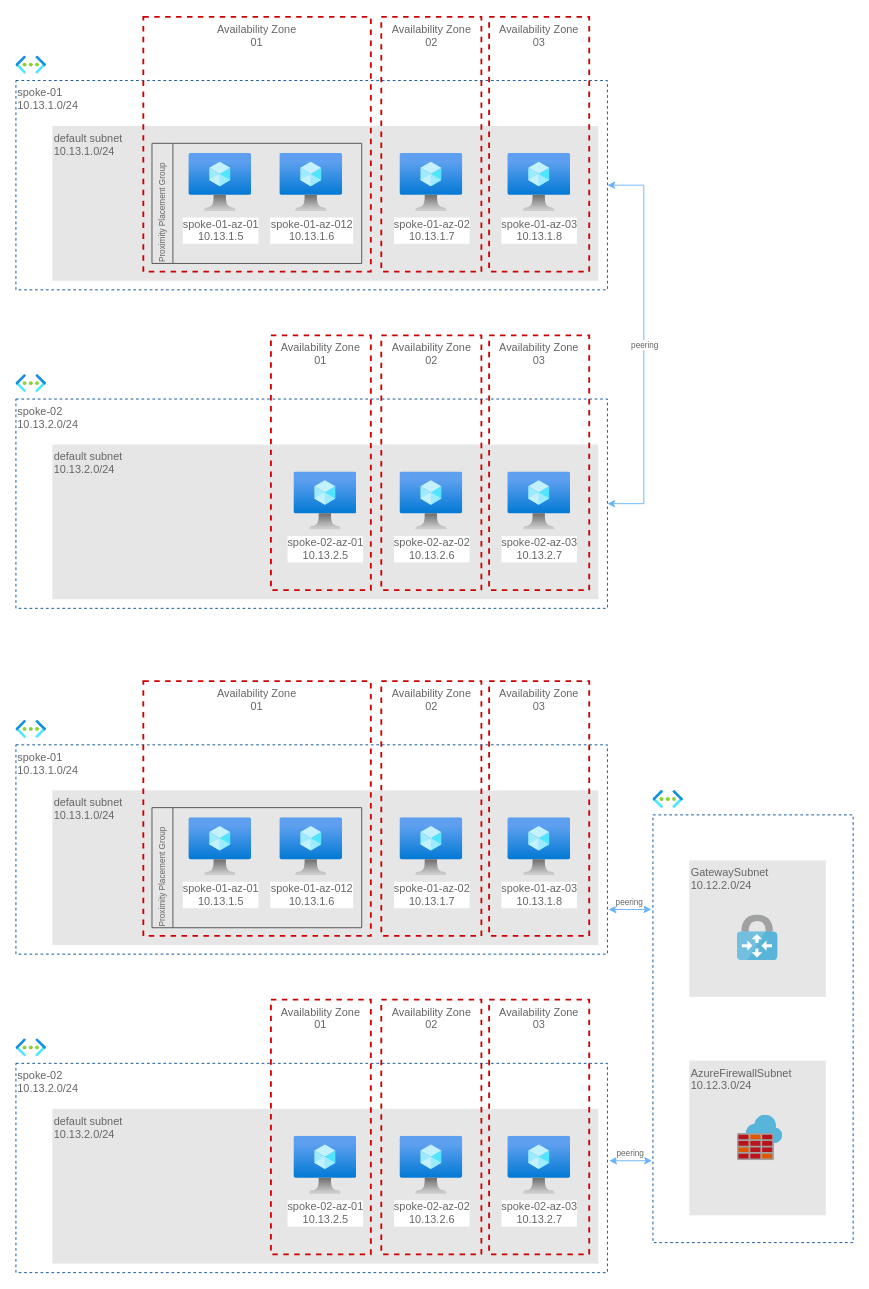
Image size: 869x1289. Some labels were removed from this diagram. The shapes that lost their labels are listed below. From the top down, each one's box as (x1, y1, x2, y2) in pixels, then its label:
(652, 814, 853, 1243): hub-lab-net 10.12.0.0/16
(737, 1115, 782, 1160): firewall 10.12.3.4
